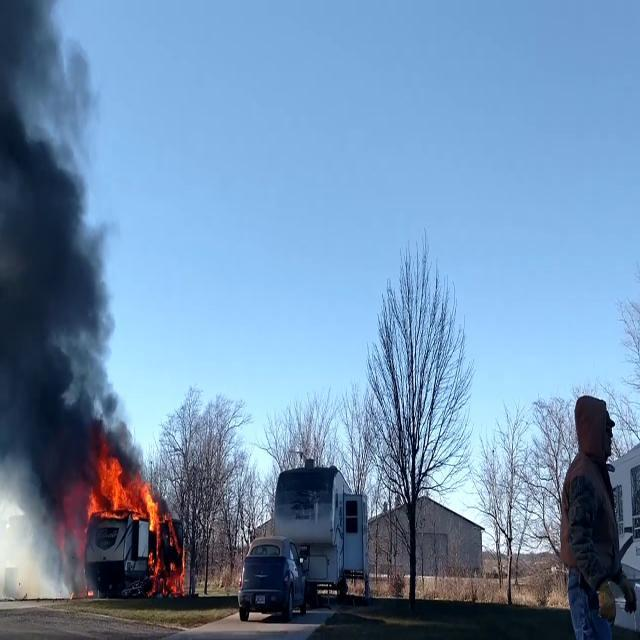Fire: (87, 446, 141, 524), (132, 469, 160, 537)
Smoke: (0, 1, 132, 530)
